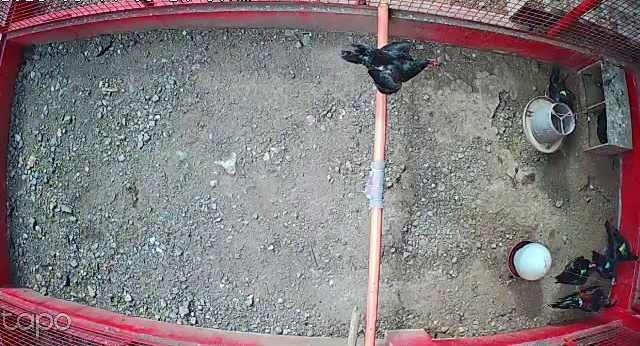Chicken: (339, 34, 440, 95), (587, 244, 631, 295), (542, 59, 580, 116), (597, 216, 640, 266), (549, 246, 601, 287)
Rooster: (542, 281, 625, 317)
Saddle_Color_Blue: (606, 261, 611, 268)
Saddle_Color_Yellow: (561, 90, 567, 95)
Saddle_Color_YellowGreen: (619, 243, 627, 253)
